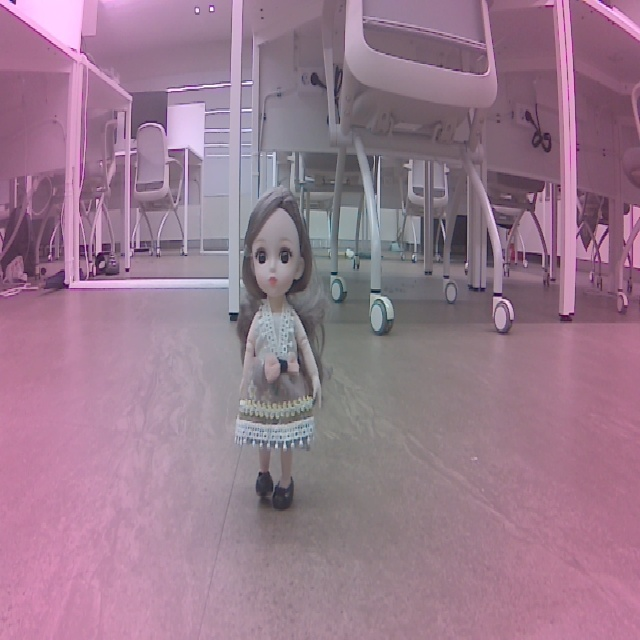장애물: (225, 180, 339, 521)
